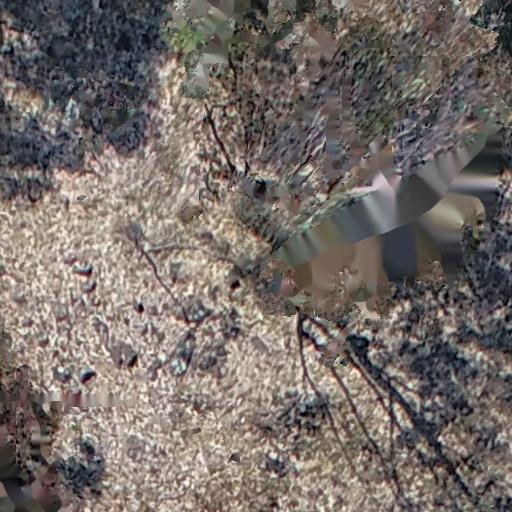stone: (166, 329, 194, 379), (186, 297, 212, 321), (108, 341, 128, 366), (122, 342, 138, 368), (72, 260, 94, 276), (52, 366, 70, 382), (80, 277, 97, 293), (79, 369, 97, 383), (54, 305, 68, 320), (62, 252, 78, 264), (21, 315, 34, 329), (134, 302, 146, 315), (39, 337, 50, 348)
